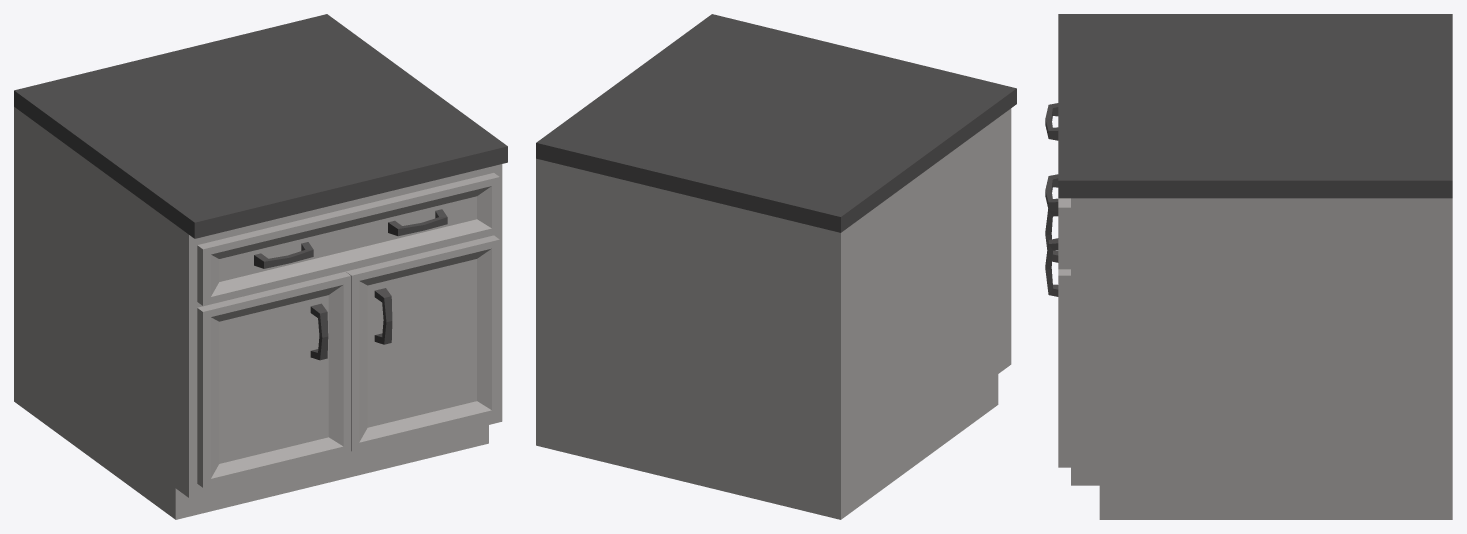
File: SM_Prop_Kitchen_Counter_01.glb
3 renders of one model, left to right at view 1: azimuth 30°, elevation 25°; view 2: azimuth 150°, elevation 25°; view 3: azimuth 270°, elevation 25°, orthographic. The views are drawn at different scales.
Visible parts, largest first — view 1: SM_Prop_Kitchen_Counter_01; view 2: SM_Prop_Kitchen_Counter_01; view 3: SM_Prop_Kitchen_Counter_01.
Part boxes in pixels (x1,y1,x2,y2): SM_Prop_Kitchen_Counter_01: [14, 14, 507, 519]; SM_Prop_Kitchen_Counter_01: [536, 14, 1016, 519]; SM_Prop_Kitchen_Counter_01: [1045, 14, 1452, 519].
Size of the model in its own units: 1 by 0.9496 by 1.03.
4 materials, 4 textured.
